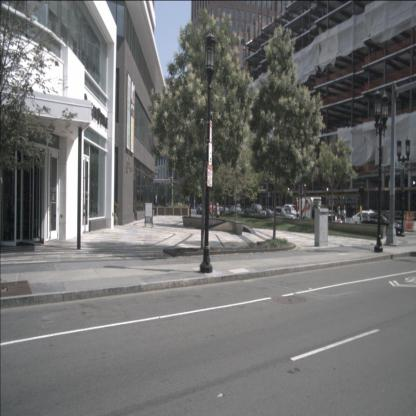cone: (403, 211, 406, 230), (410, 212, 413, 229), (408, 212, 410, 228), (406, 212, 408, 228)
